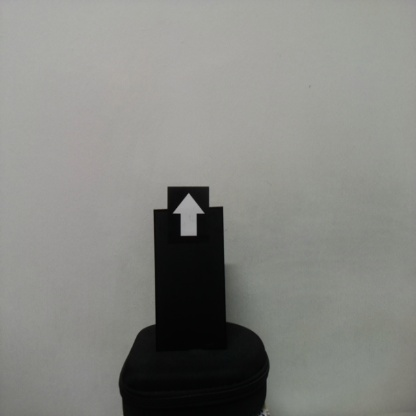id_1: (167, 186, 209, 245)
